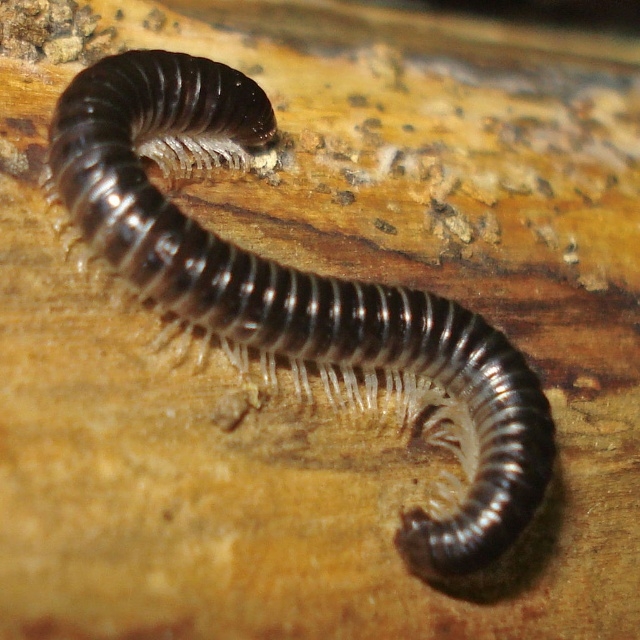Centipede: (37, 48, 560, 587)
